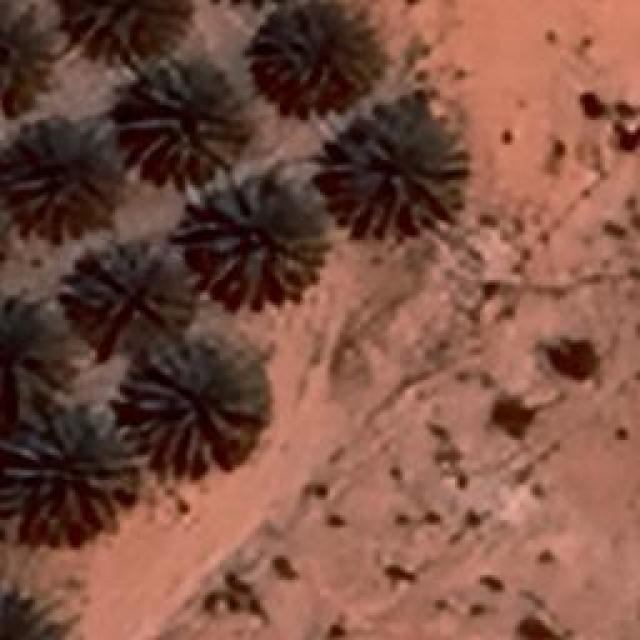PalmTree: (120, 335, 270, 480), (182, 170, 328, 310), (310, 110, 465, 240), (2, 407, 140, 535), (123, 58, 250, 172), (248, 0, 382, 100), (6, 121, 124, 231), (75, 250, 193, 345), (0, 302, 80, 410), (30, 56, 102, 110), (0, 583, 53, 640), (102, 32, 130, 65)
